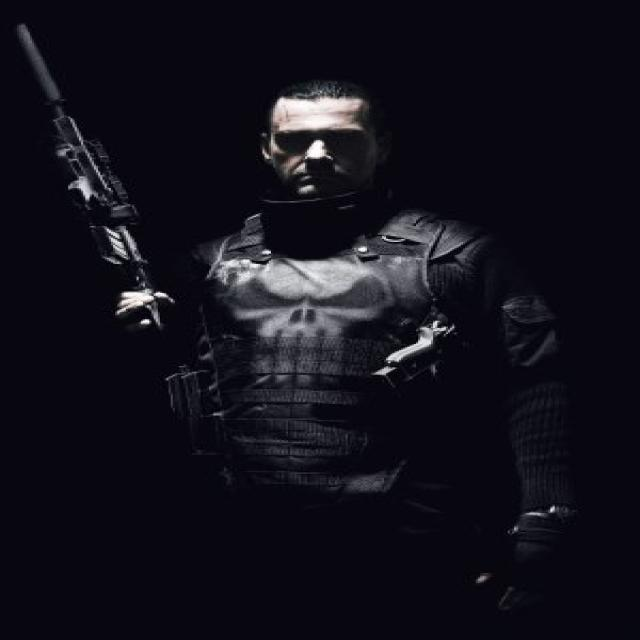rifle: (16, 17, 212, 431)
